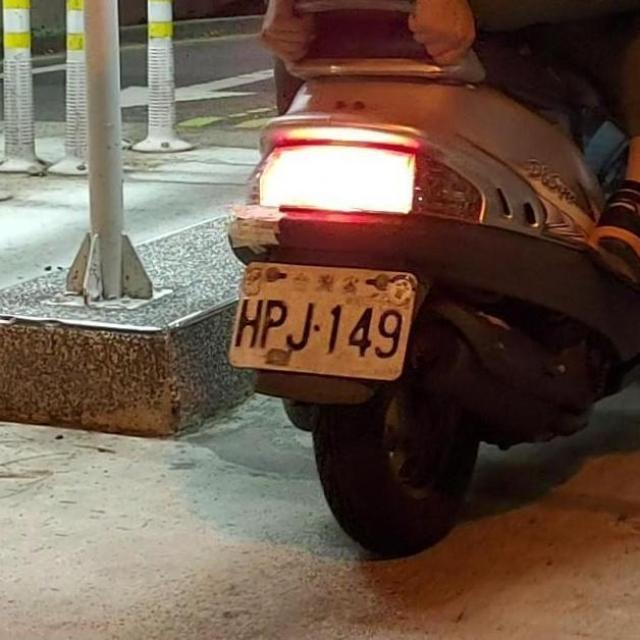W: (219, 246, 425, 391)
